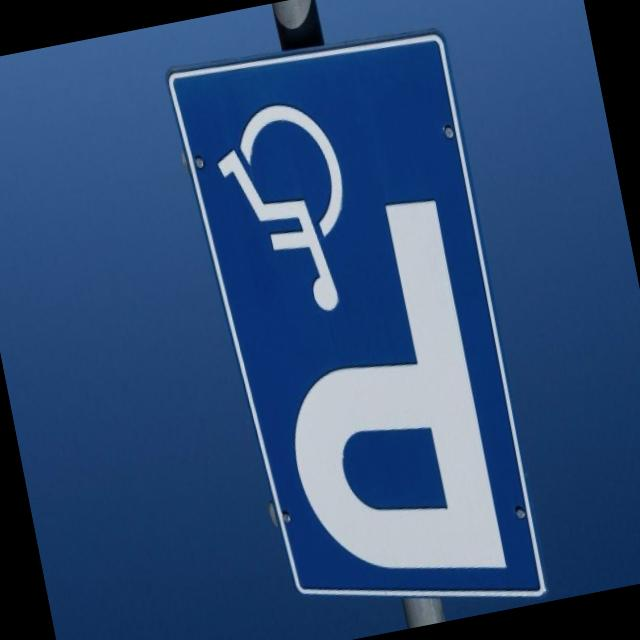symbol_of_access: (196, 68, 378, 336)
